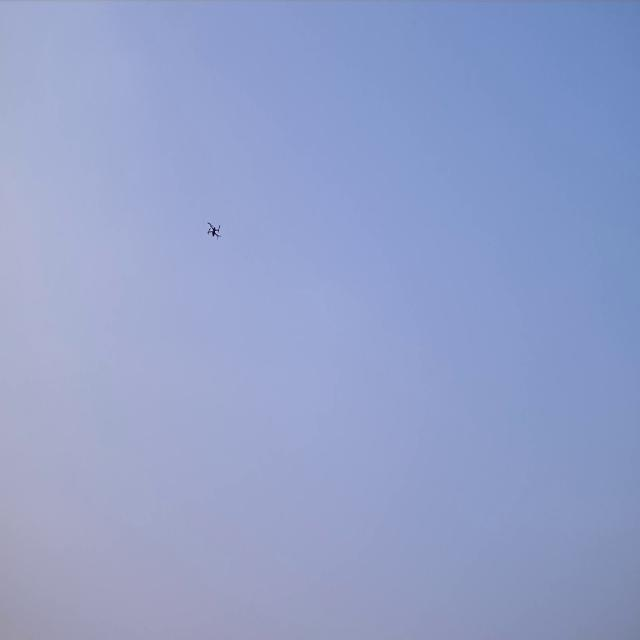UAV: (205, 220, 223, 240)
